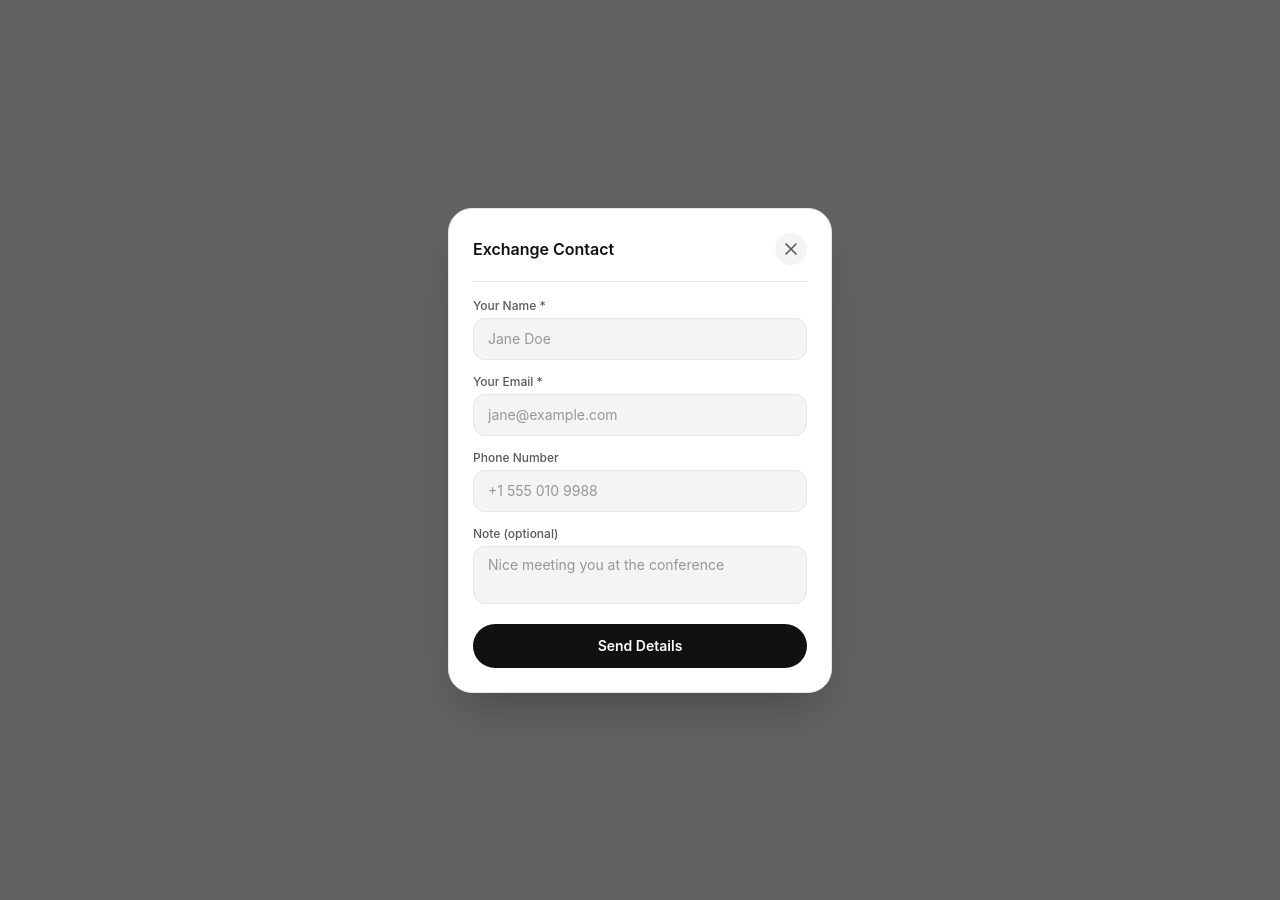
Test: ExchangeModal and QrModal › validates and submits contact exchange form
The image size is (1280, 900).
Type "Taylor Smith" into the field labelled "Your Name *".
click(640, 338); type("Taylor Smith")  # box [473,318,807,360]
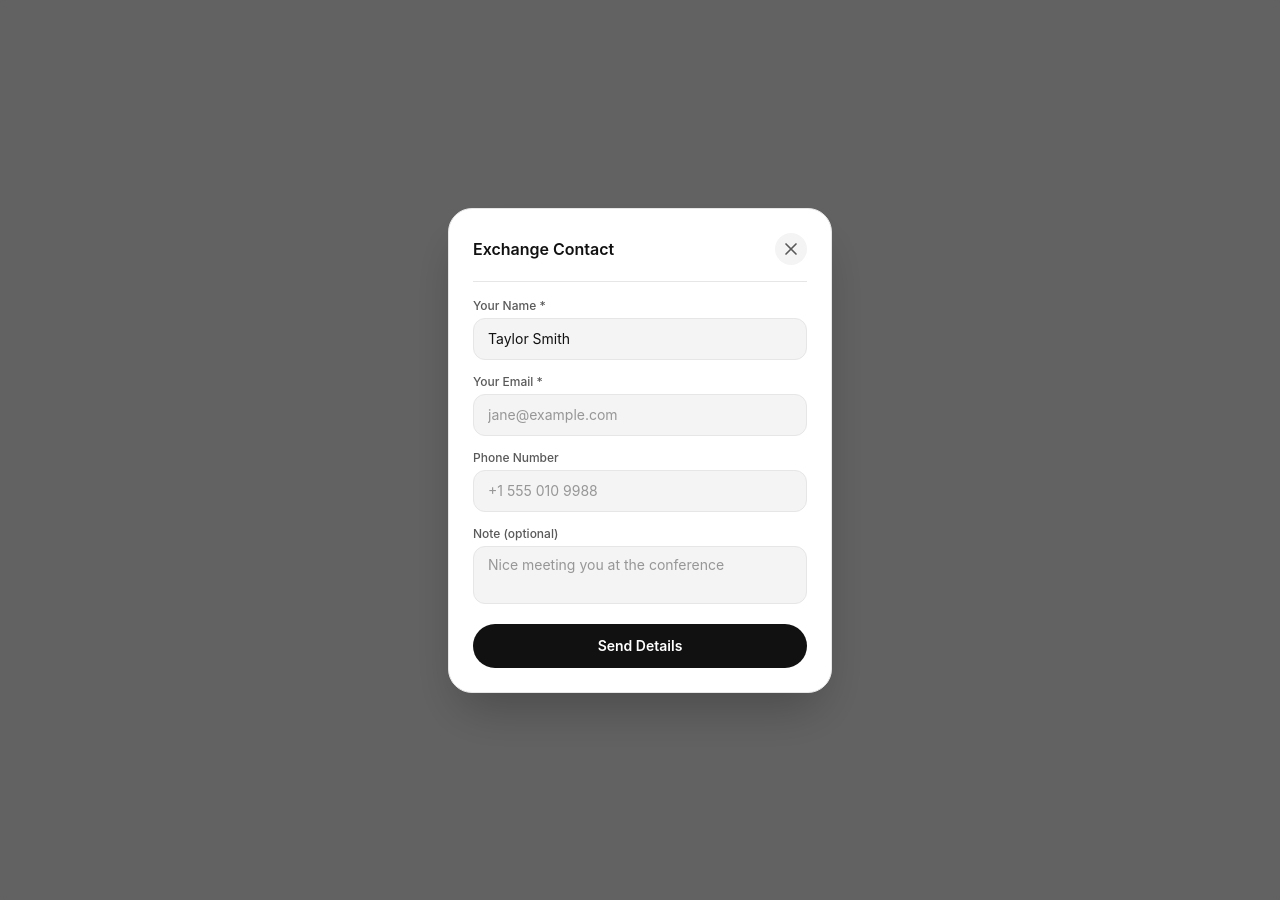
Type "taylor@example.com" into the field labelled "Your Email *".
click(640, 414); type("taylor@example.com")  # box [473,394,807,436]
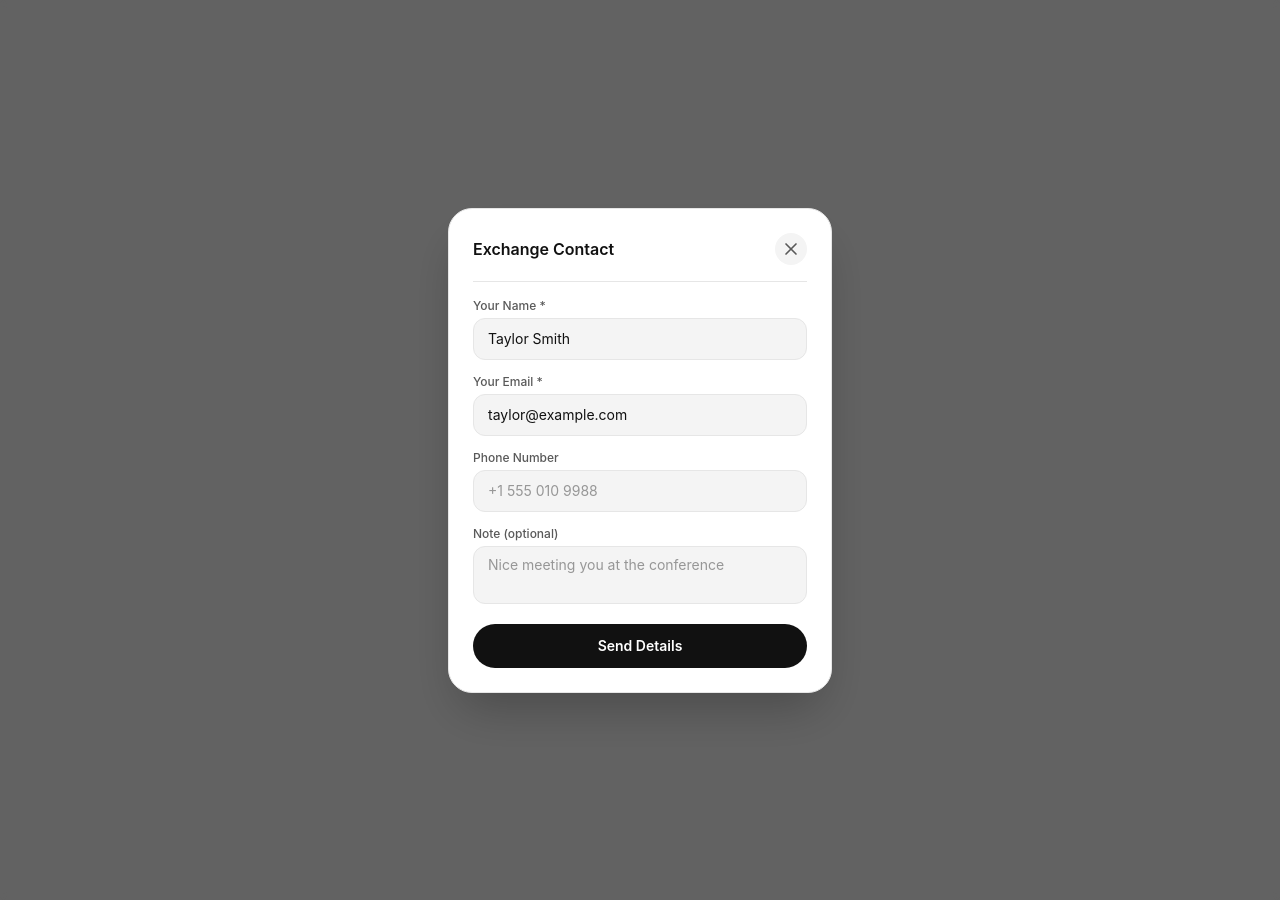
Submit the form, box [473,298,807,668]
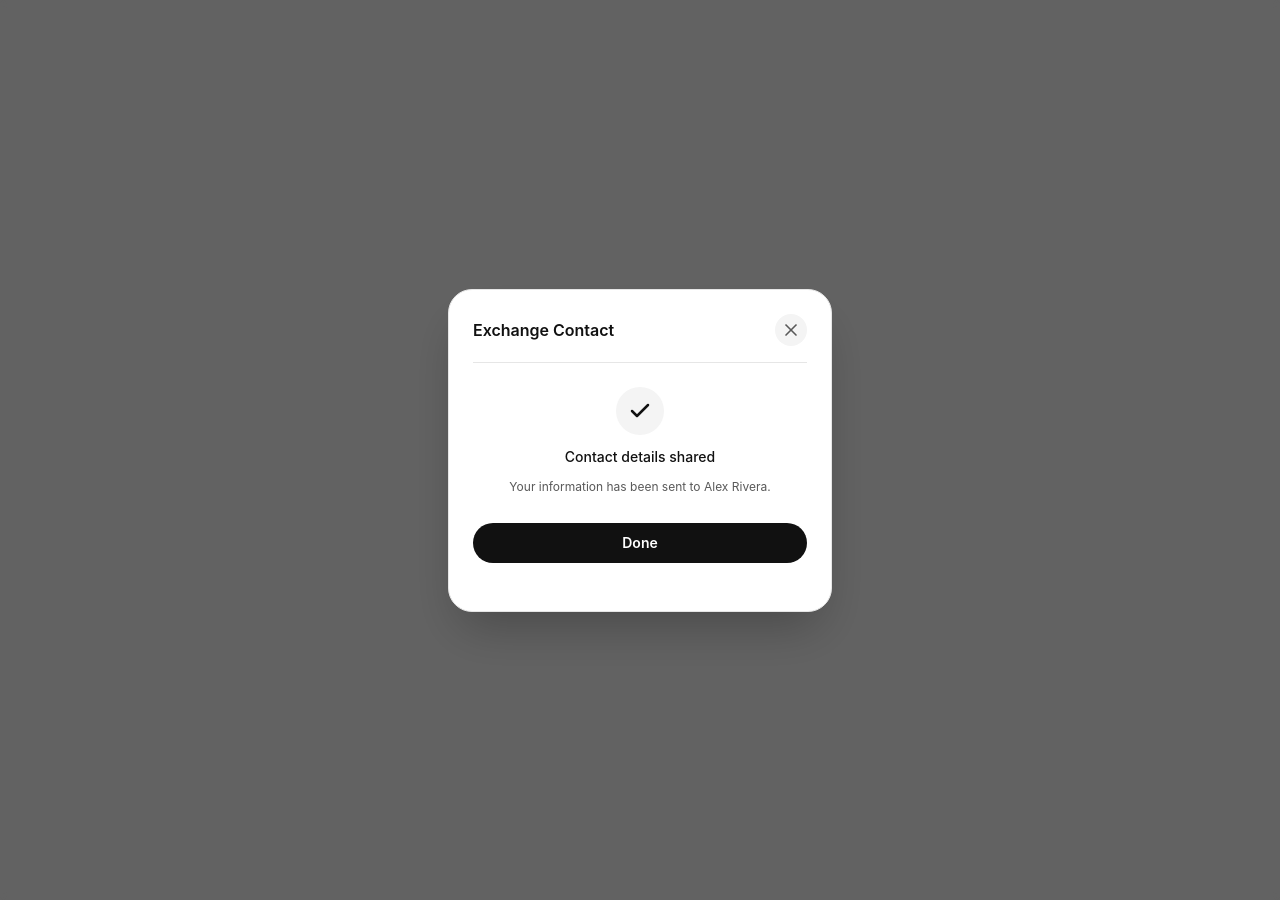
Expected: the text "Contact details shared" is shown, [565,448,715,464]
